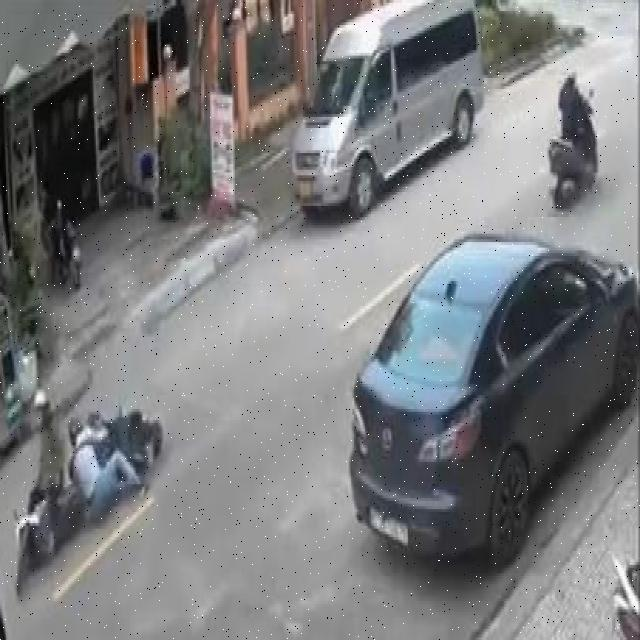accident: (8, 384, 169, 615)
